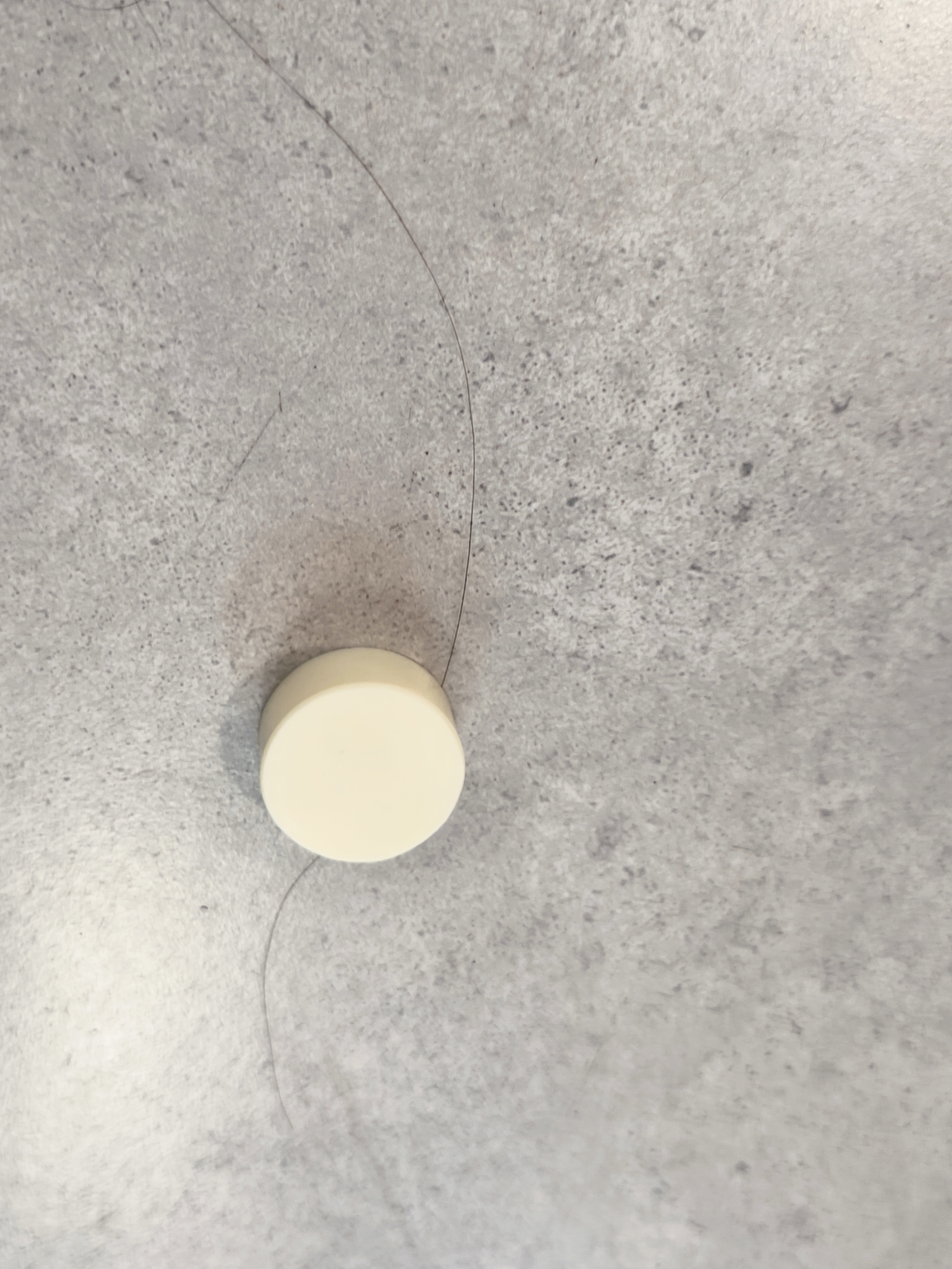chesspiece: (258, 640, 470, 867)
